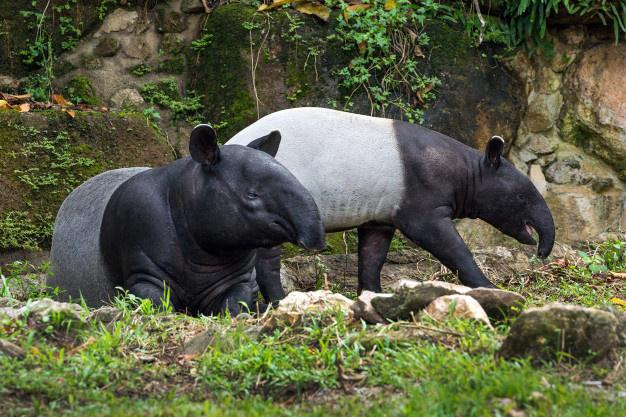Anta: (222, 107, 559, 305), (43, 128, 325, 323)
